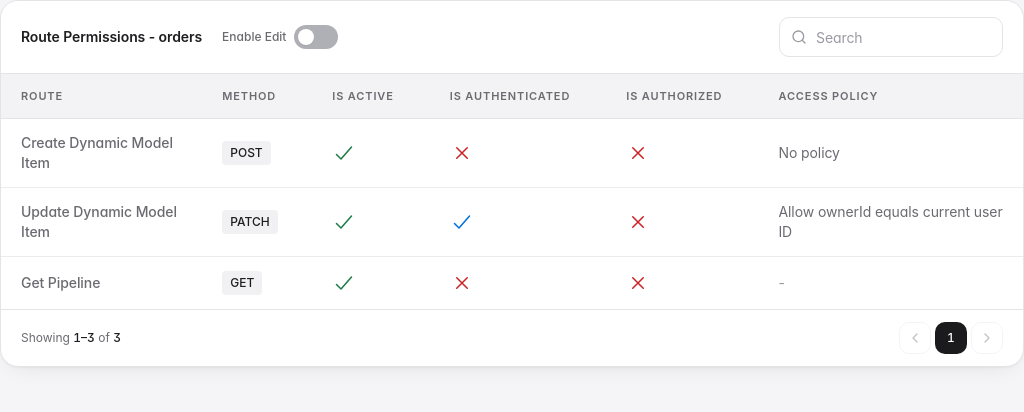
RoutePermissions access policies › shows policy summaries and edit actions only for record-backed routes
The width and height of the screenshot is (1024, 412).
Expected: the text "No policy" is shown, x1=778 y1=143 x2=840 y2=163
Expected: the text "Allow ownerId equals current user ID" is shown, x1=778 y1=202 x2=1003 y2=242
Click the switch.
click(316, 37)  # box x1=294 y1=25 x2=338 y2=49
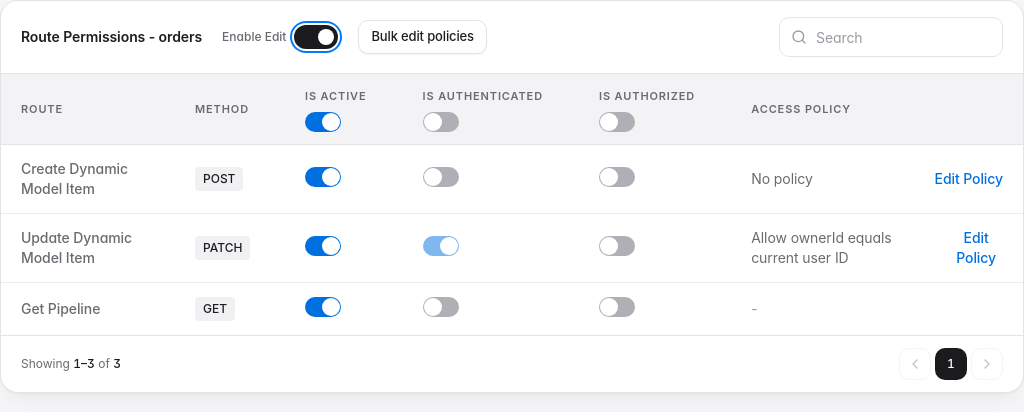
Now the number of buttons "Edit Policy" is 2, box x1=934 y1=169 x2=1003 y2=189; x1=949 y1=228 x2=1003 y2=268
